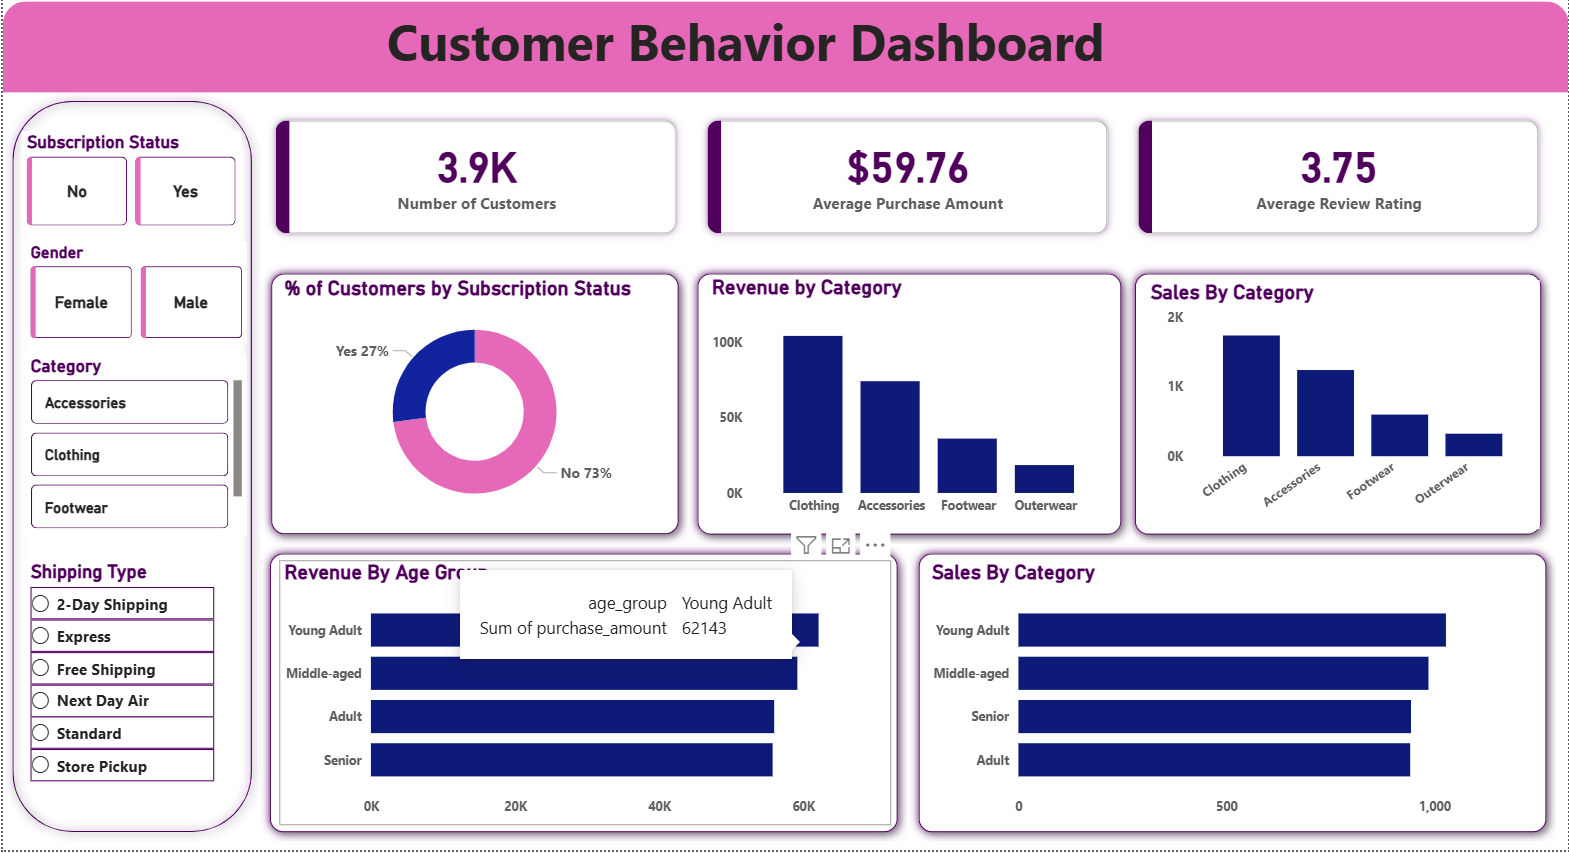

What the dashboard file says about the page in this screenshot:
{"tool":"powerbi","page":{"name":"Page 1","canvas":[1500,820],"ordinal":0},"visuals":[{"type":"cardVisual","fields":{"Data":["customer_behavior customer.Number of Customers","customer_behavior customer.Average Purchase Amount","customer_behavior customer.Average Review Rating"]},"box":[233,93.7,1267.2,164.6],"z":0},{"type":"shape","box":[0,7,1500,87.1],"z":1000},{"type":"textbox","box":[7.2,7.2,1263.2,86.3],"z":2000},{"type":"shape","box":[247.4,258.2,408.4,267.9],"z":3000},{"type":"donutChart","title":"% of Customers by Subscription Status","fields":{"Category":["customer_behavior customer.subscription_status"],"Y":["CountNonNull(customer_behavior customer.customer_id)"]},"box":[264.3,270.3,374.8,237.8],"z":4000},{"type":"shape","box":[1075.8,258.4,407.3,268.3],"z":5000},{"type":"shape","box":[655.9,258.4,424.2,268.3],"z":6000},{"type":"clusteredColumnChart","title":"Revenue by Category","fields":{"Category":["customer_behavior customer.category"],"Y":["Sum(customer_behavior customer.purchase_amount)"]},"box":[674.2,269.7,389,238.8],"z":7000},{"type":"clusteredColumnChart","title":"Sales By Category","fields":{"Category":["customer_behavior customer.category"],"Y":["CountNonNull(customer_behavior customer.customer_id)"]},"box":[1094.1,273.9,377.8,238.8],"z":8000},{"type":"shape","box":[0,93.7,247.4,718.3],"z":9000},{"type":"advancedSlicerVisual","fields":{"Values":["customer_behavior customer.subscription_status"]},"box":[18.3,132,210.7,95.5],"z":10000},{"type":"advancedSlicerVisual","fields":{"Values":["customer_behavior customer.gender"]},"box":[21.1,238.8,212.1,96.9],"z":11000},{"type":"advancedSlicerVisual","fields":{"Values":["customer_behavior customer.category"]},"box":[21.1,345.5,212.1,172.8],"z":12000},{"type":"listSlicer","title":"Shipping Type","fields":{"Values":["customer_behavior customer.shipping_type"]},"box":[21.1,542.1,199.4,223.3],"z":13000},{"type":"shape","box":[868,526.7,619.4,285.1],"z":14000},{"type":"shape","box":[247.2,526.7,619.4,285.1],"z":16000},{"type":"clusteredBarChart","title":"Revenue By Age Group","fields":{"Category":["customer_behavior customer.age_group"],"Y":["Sum(customer_behavior customer.purchase_amount)"]},"box":[264,542.1,587.1,254.2],"z":16500},{"type":"clusteredBarChart","title":"Sales By Category","fields":{"Category":["customer_behavior customer.age_group"],"Y":["CountNonNull(customer_behavior customer.customer_id)"]},"box":[884.8,542.1,587.1,254.2],"z":17000}]}

Visuals, with their boxes in screenshot pixels (x1, y1, x2, y2), scaled from the page's 1500x820 canvas onto the 1569x853 screenshot:
cardVisual - customer_behavior customer.Number of Customers x customer_behavior customer.Average Purchase Amount: box(244, 97, 1568, 269)
shape: box(0, 7, 1568, 98)
textbox: box(8, 7, 1329, 97)
shape: box(259, 269, 686, 547)
"% of Customers by Subscription Status" donutChart: box(276, 281, 668, 529)
shape: box(1125, 269, 1551, 548)
shape: box(686, 269, 1130, 548)
"Revenue by Category" clusteredColumnChart: box(705, 281, 1112, 529)
"Sales By Category" clusteredColumnChart: box(1144, 285, 1540, 533)
shape: box(0, 97, 259, 845)
advancedSlicerVisual - customer_behavior customer.subscription_status: box(19, 137, 240, 237)
advancedSlicerVisual - customer_behavior customer.gender: box(22, 248, 244, 349)
advancedSlicerVisual - customer_behavior customer.category: box(22, 359, 244, 539)
"Shipping Type" listSlicer: box(22, 564, 231, 796)
shape: box(908, 548, 1556, 844)
shape: box(259, 548, 906, 844)
"Revenue By Age Group" clusteredBarChart: box(276, 564, 890, 828)
"Sales By Category" clusteredBarChart: box(926, 564, 1540, 828)
